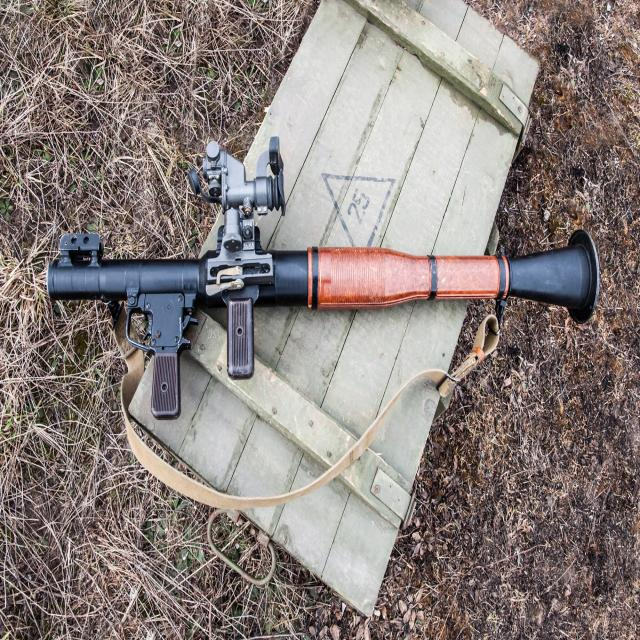bazooka: (18, 126, 614, 441)
